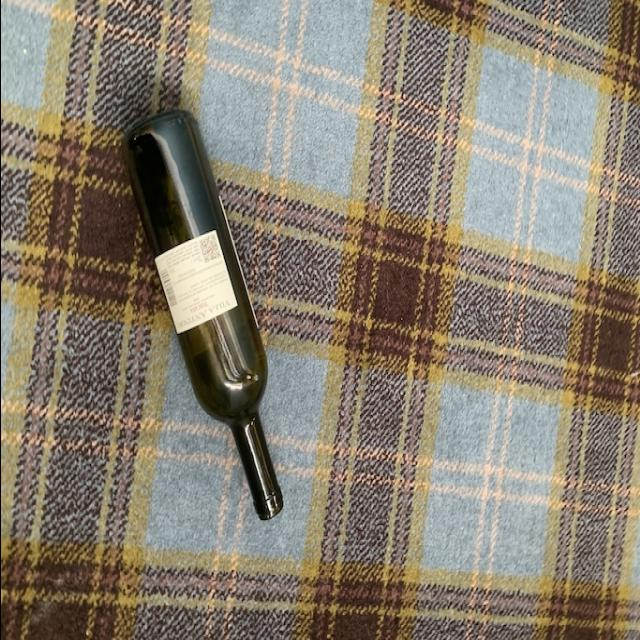Glass Bottle: (118, 108, 283, 528)
